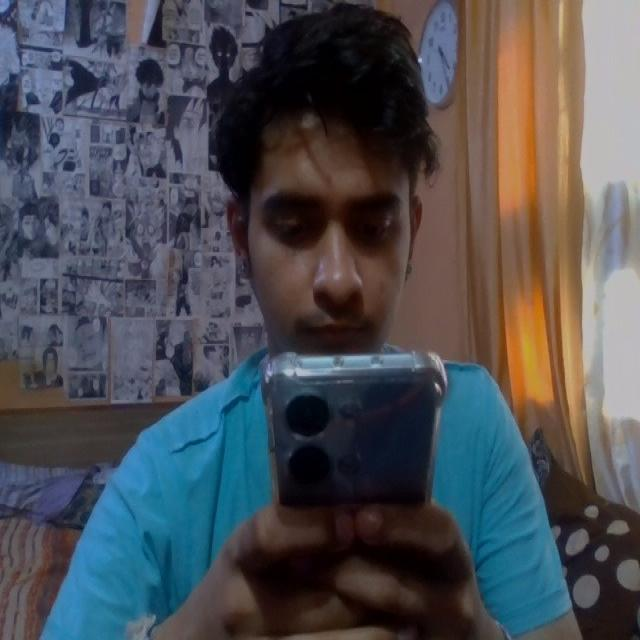phone: (260, 351, 459, 626)
using-phone: (26, 14, 599, 639)
